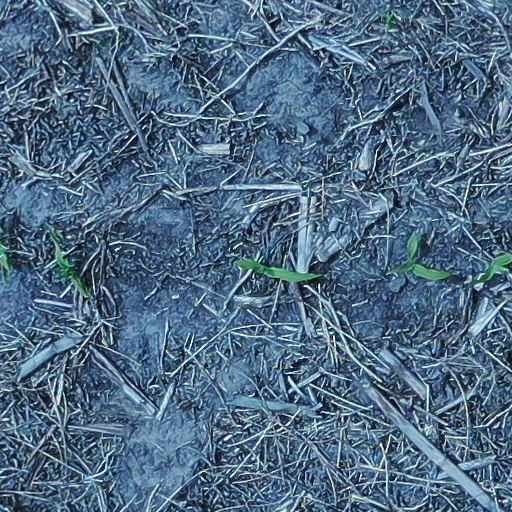planta: (389, 230, 453, 279), (51, 244, 91, 298), (235, 259, 322, 282)
